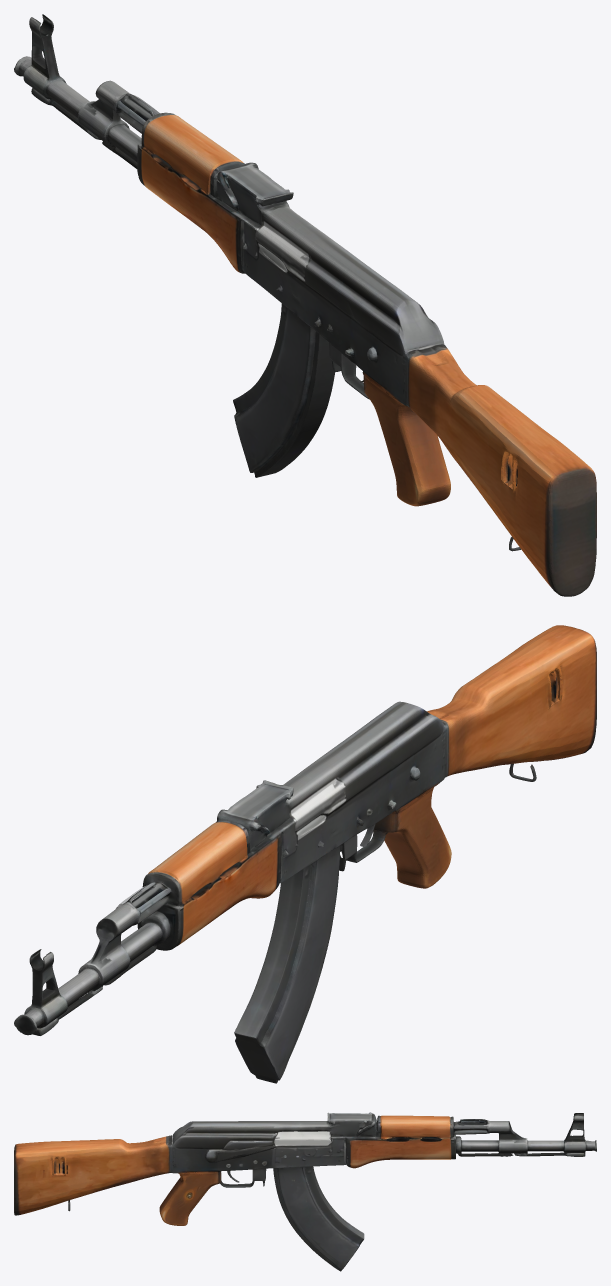
The picture shows the model from 3 angles, top to bottom: view 1: azimuth 30°, elevation 25°; view 2: azimuth 150°, elevation 25°; view 3: azimuth 270°, elevation 25°; orthographic projection. The views are drawn at different scales.
Parts seen in each view (by area): view 1: GLTF; view 2: GLTF; view 3: GLTF.
Boxes of the visible parts, x1,y1,x2,y2 form: GLTF: (14, 14, 596, 596); GLTF: (14, 625, 596, 1083); GLTF: (14, 1112, 596, 1271).
Bounding box in the file's own units: 0.0528 × 0.2931 × 0.9986.
Materials: 1 (1 with a texture image).
